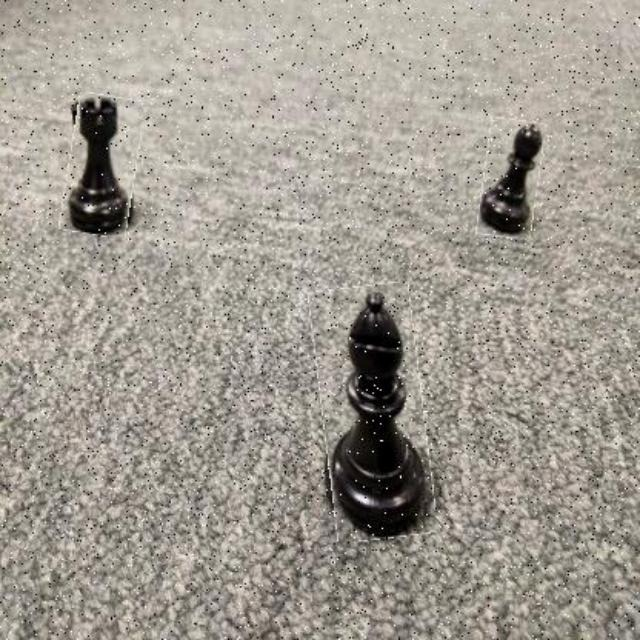black-bishop: (315, 284, 430, 540)
black-pawn: (479, 118, 540, 238)
black-rook: (64, 94, 139, 235)
